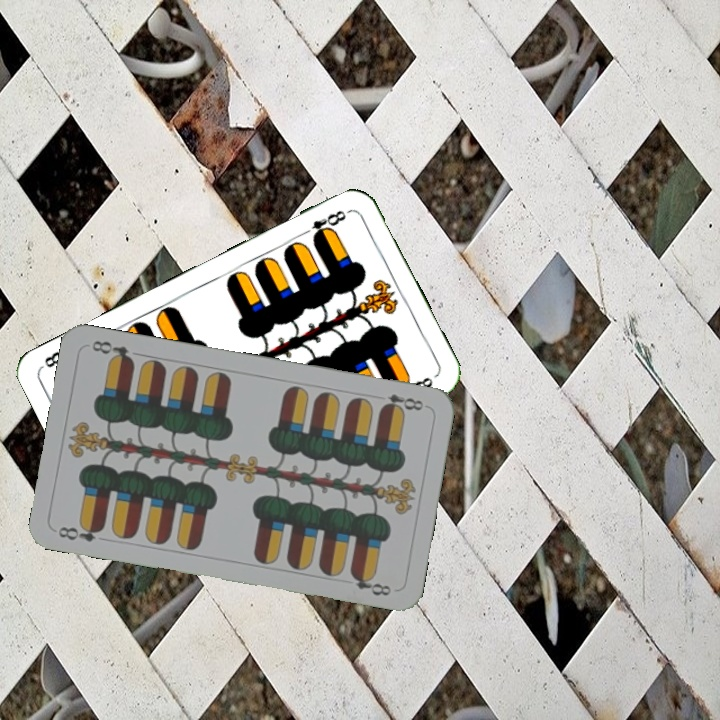E8: (297, 206, 349, 243), (54, 519, 107, 545), (377, 389, 429, 415)
